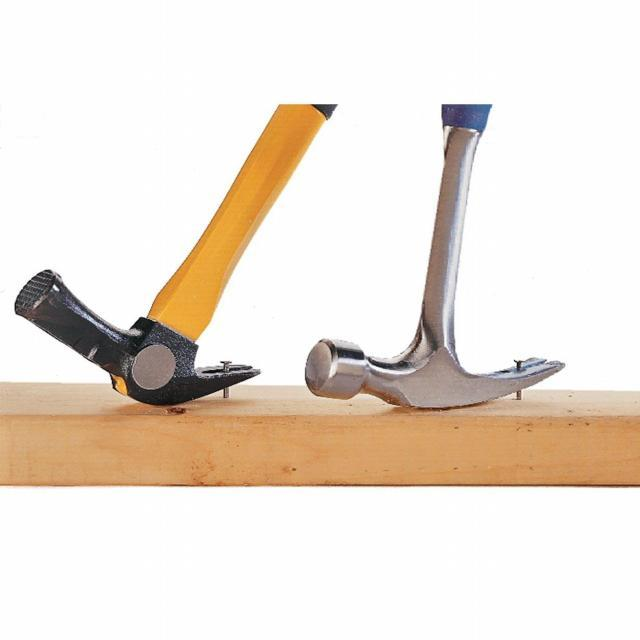hammer: (11, 106, 340, 409), (302, 105, 570, 415)
